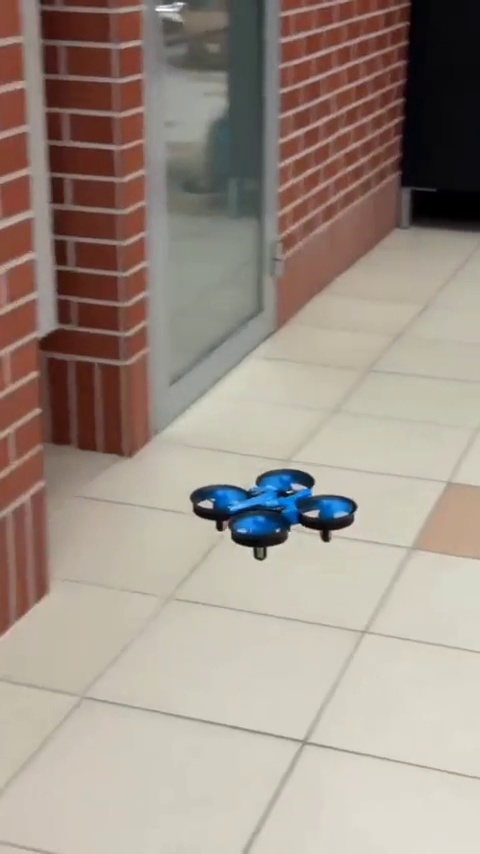drone: (189, 464, 366, 566)
